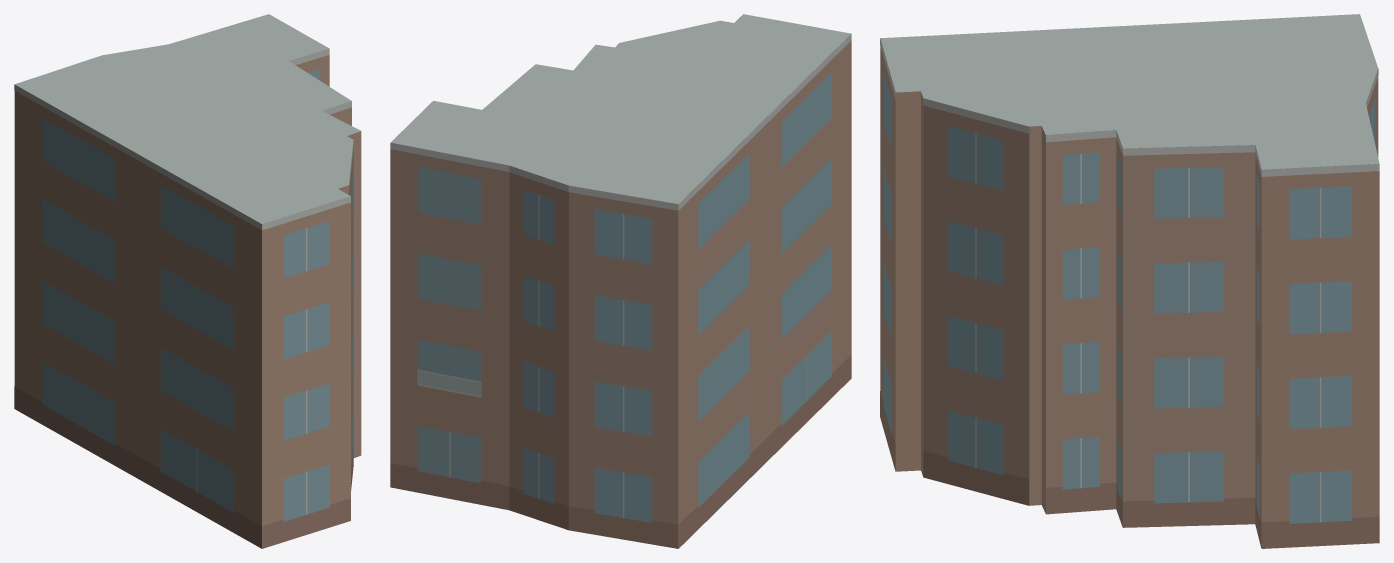
File: survey-upis-32996932.glb
3 views of the same model, side by side, from view 1: azimuth 30°, elevation 25°; view 2: azimuth 150°, elevation 25°; view 3: azimuth 270°, elevation 25° (orthographic). The views are drawn at different scales.
Parts seen in each view (by area): view 1: survey-upis-32996932.tmp; view 2: survey-upis-32996932.tmp; view 3: survey-upis-32996932.tmp.
Boxes of the visible parts, left/top/right/bottom form: survey-upis-32996932.tmp: left=14, top=14, right=361, bottom=548; survey-upis-32996932.tmp: left=390, top=14, right=851, bottom=548; survey-upis-32996932.tmp: left=880, top=14, right=1379, bottom=548.
Size of the model in its own units: 11.28 by 12.8 by 15.29.
